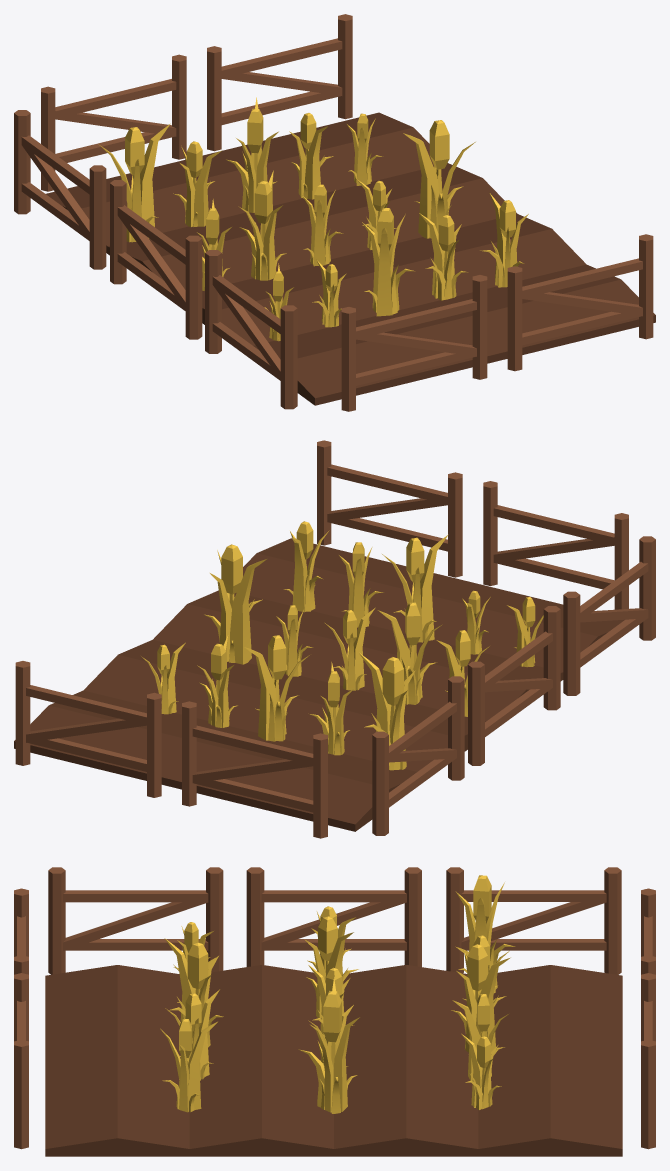
Rendered from crop_group.glb.
3 views of the same model, one above another, from view 1: azimuth 30°, elevation 25°; view 2: azimuth 150°, elevation 25°; view 3: azimuth 270°, elevation 25° (orthographic). The views are drawn at different scales.
Parts seen in each view (by area): view 1: soil_geo_01, Fence_geo_019, Fence_geo_018, Fence_geo_020, Fence_geo_016, Fence_geo_015, Fence_geo_017, Fence_geo_014, Crop_geo9, Crop_geo29, Crop_geo6, Crop_geo12 (+11 smaller); view 2: soil_geo_01, Fence_geo_020, Fence_geo_014, Fence_geo_019, Fence_geo_018, Fence_geo_016, Fence_geo_017, Fence_geo_015, Crop_geo9, Crop_geo1, Crop_geo29, Crop_geo6 (+11 smaller); view 3: soil_geo_01, Fence_geo_017, Fence_geo_016, Fence_geo_015, Crop_geo9, Fence_geo_019, Fence_geo_020, Crop_geo8, Crop_geo1, Crop_geo6, Crop_geo29, Crop_geo12 (+8 smaller).
Boxes of the visible parts, box(x1,y1,x2,y2) form: soil_geo_01: box(46, 112, 655, 405); Fence_geo_019: box(507, 234, 653, 371); Fence_geo_018: box(341, 275, 487, 411); Fence_geo_020: box(207, 14, 352, 151); Fence_geo_016: box(110, 180, 202, 339); Fence_geo_015: box(14, 110, 106, 269); Fence_geo_017: box(205, 250, 297, 409); Fence_geo_014: box(41, 54, 186, 191); Crop_geo9: box(403, 120, 475, 238); Crop_geo29: box(98, 123, 170, 242); Crop_geo6: box(362, 207, 414, 316); Crop_geo12: box(238, 170, 286, 280); soil_geo_01: box(14, 538, 624, 831); Fence_geo_020: box(15, 661, 161, 797); Fence_geo_014: box(182, 701, 327, 838); Fence_geo_019: box(317, 440, 462, 577); Fence_geo_018: box(483, 481, 628, 609); Fence_geo_016: box(468, 606, 560, 765); Fence_geo_017: box(563, 536, 655, 695); Fence_geo_015: box(372, 676, 464, 835); Crop_geo9: box(204, 544, 266, 664); Crop_geo1: box(244, 635, 309, 741); Crop_geo29: box(359, 653, 415, 770); Crop_geo6: box(382, 534, 448, 642); soil_geo_01: box(45, 965, 622, 1156); Fence_geo_017: box(48, 867, 223, 974); Fence_geo_016: box(246, 867, 421, 966); Fence_geo_015: box(446, 867, 621, 974); Crop_geo9: box(299, 977, 359, 1113); Fence_geo_019: box(14, 973, 28, 1149); Fence_geo_020: box(641, 973, 655, 1149); Crop_geo8: box(160, 1019, 217, 1112); Crop_geo1: box(451, 944, 510, 1052); Crop_geo6: box(164, 938, 223, 1047); Crop_geo29: box(455, 875, 515, 993); Crop_geo12: box(304, 916, 358, 1018).
Size of the model in its own units: 4.25 by 1.33 by 6.17.
